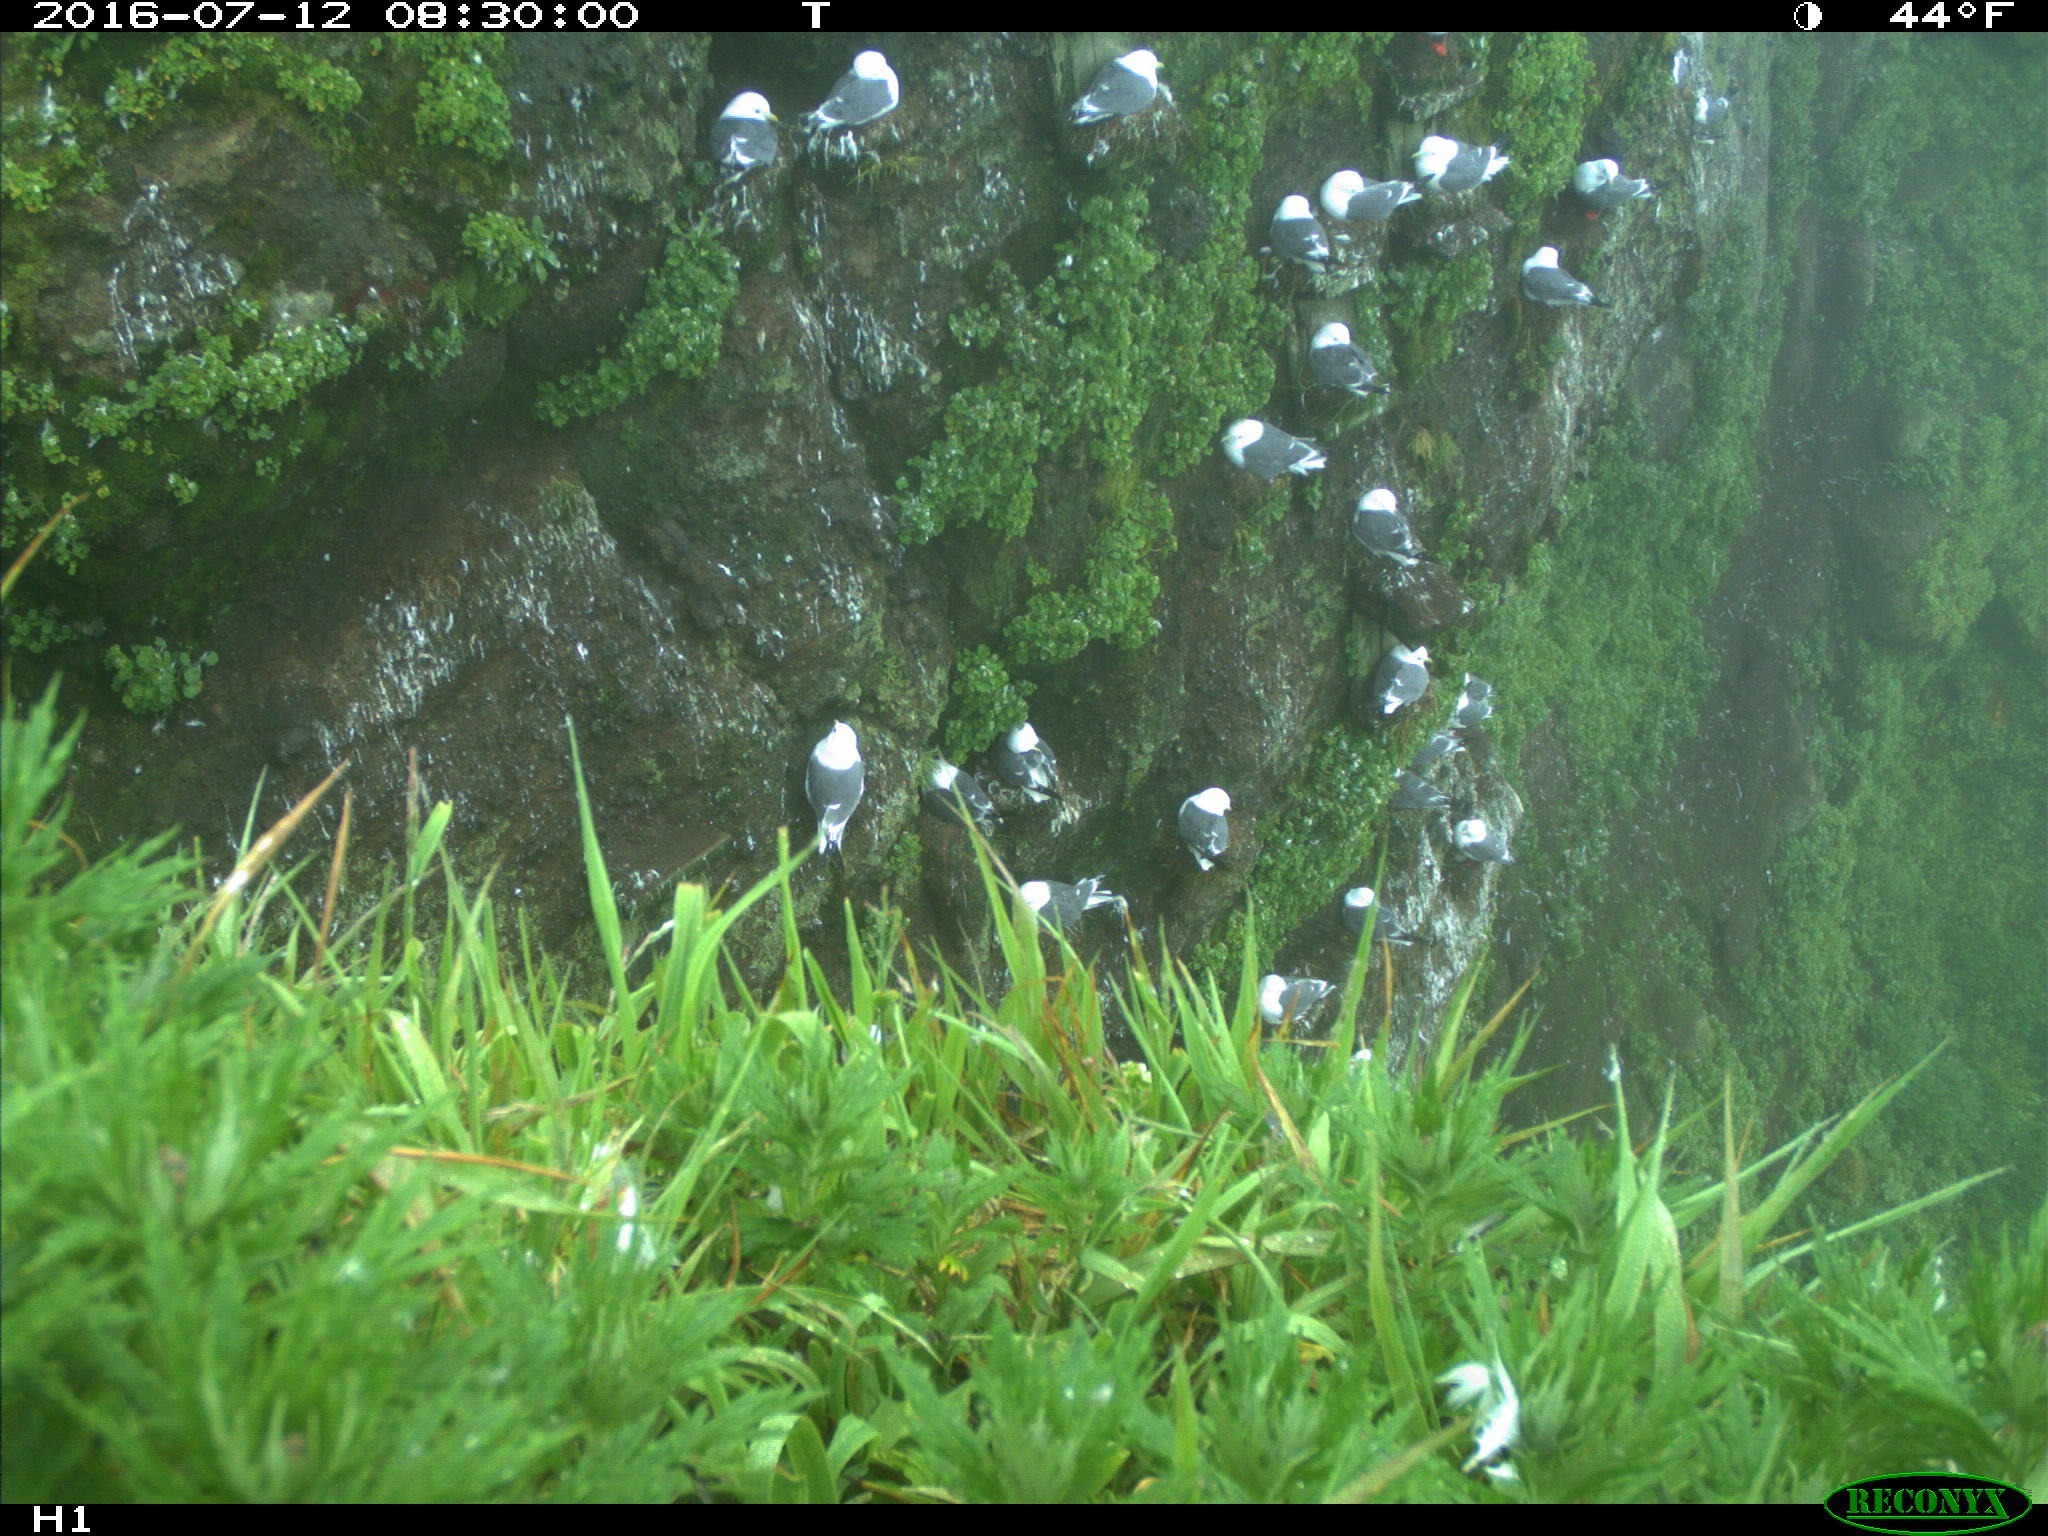Kittiwake: (1030, 31, 1206, 148), (780, 699, 893, 879), (679, 56, 801, 181), (1405, 110, 1534, 215), (890, 729, 1013, 837), (1253, 174, 1363, 294), (1313, 131, 1434, 237), (1197, 407, 1351, 487), (1292, 303, 1400, 416), (1009, 857, 1135, 954), (805, 47, 934, 140), (1334, 868, 1450, 971), (1334, 478, 1435, 592), (993, 692, 1080, 824), (1563, 137, 1671, 236), (1171, 762, 1245, 900), (1355, 613, 1442, 728), (1505, 236, 1614, 324), (1242, 966, 1347, 1034), (1363, 741, 1467, 803), (1447, 815, 1542, 879), (1663, 61, 1743, 132), (1450, 658, 1500, 753)
